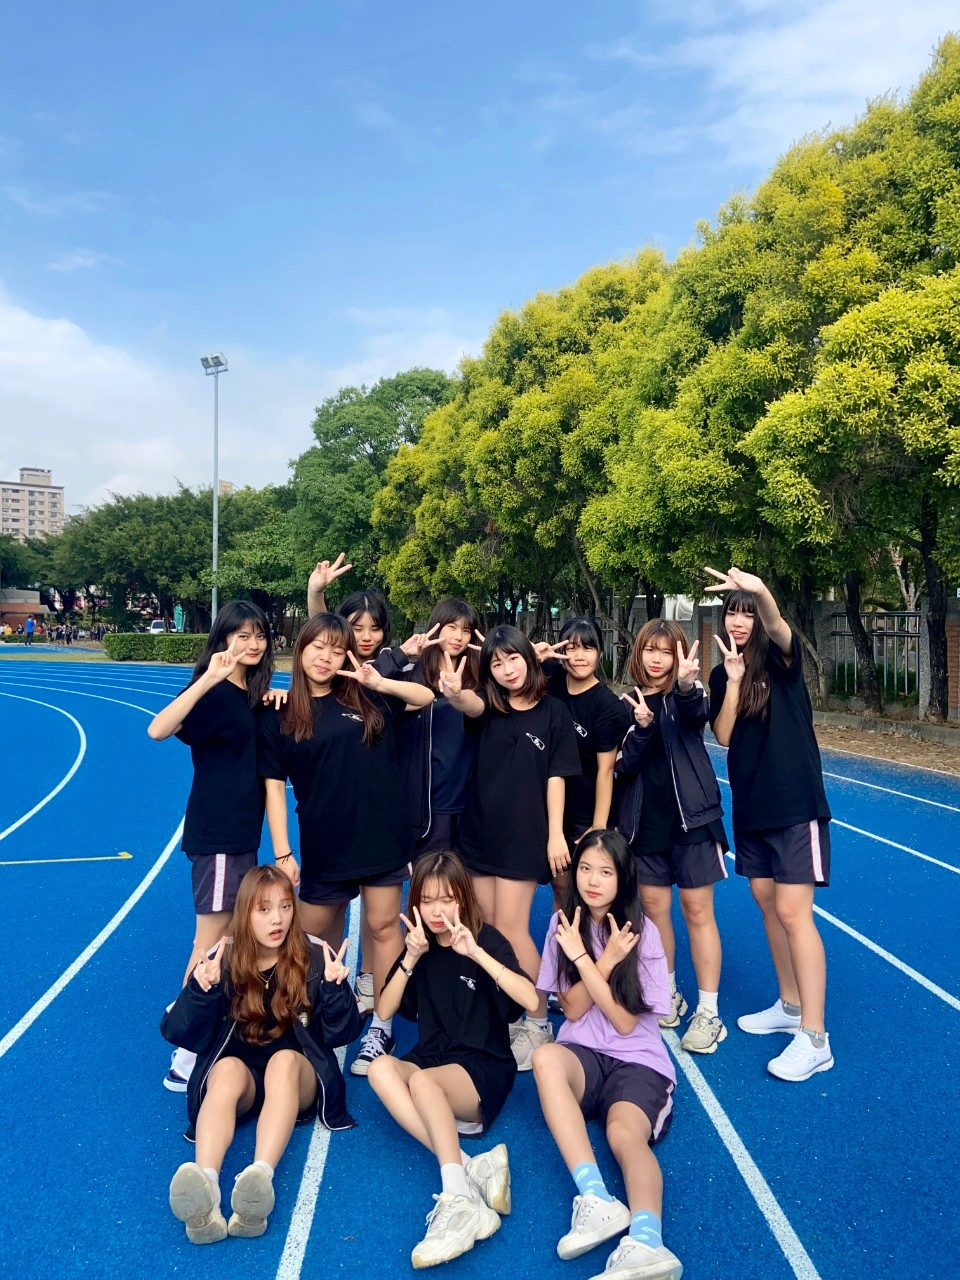people: (546, 839, 678, 1280), (717, 594, 832, 1086), (383, 853, 513, 1265), (178, 872, 321, 1239), (264, 612, 376, 1065), (181, 606, 276, 1086), (621, 619, 725, 1051), (466, 625, 548, 974), (334, 598, 405, 937), (407, 608, 483, 886), (542, 621, 617, 872)
